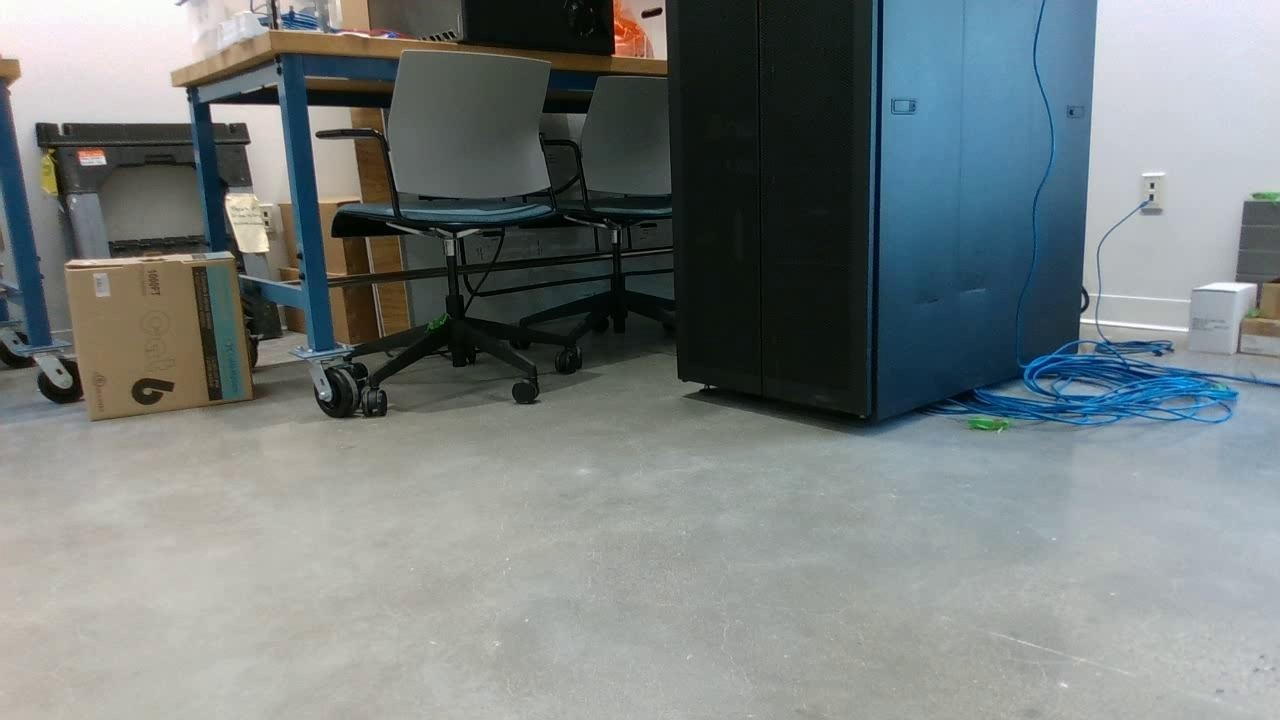grasshopper: (957, 411, 1025, 445), (410, 310, 457, 338), (1245, 186, 1280, 203), (1246, 301, 1259, 318)
